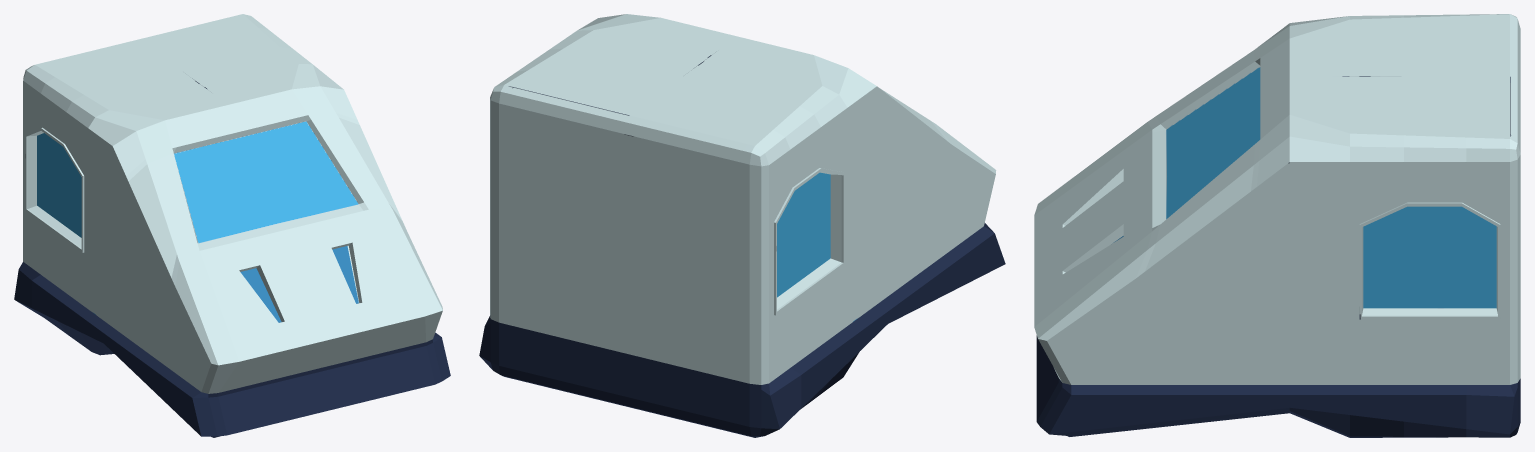
The model's file is engine.fbx.
The picture shows the model from 3 angles, left to right: view 1: azimuth 30°, elevation 25°; view 2: azimuth 150°, elevation 25°; view 3: azimuth 270°, elevation 25°; orthographic projection. The views are drawn at different scales.
Visible parts, largest first — view 1: engine; view 2: engine; view 3: engine.
Part boxes in pixels (box(x1,y1,x2,y2)): engine: box(14, 14, 450, 437); engine: box(479, 14, 1005, 437); engine: box(1034, 14, 1520, 437).
Bounding box in the file's own units: 216 × 201 × 296.
